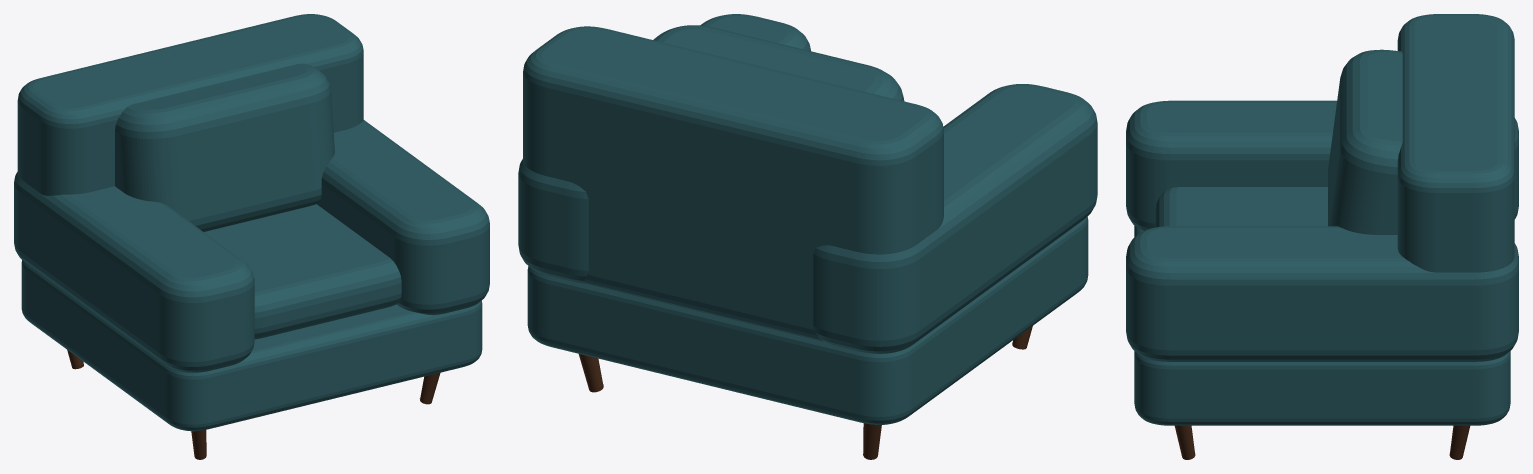
File: armchair.glb
3 views of the same model, side by side, from view 1: azimuth 30°, elevation 25°; view 2: azimuth 150°, elevation 25°; view 3: azimuth 270°, elevation 25° (orthographic). The views are drawn at different scales.
Size of the model in its own units: 0.98 by 0.8033 by 0.94.
